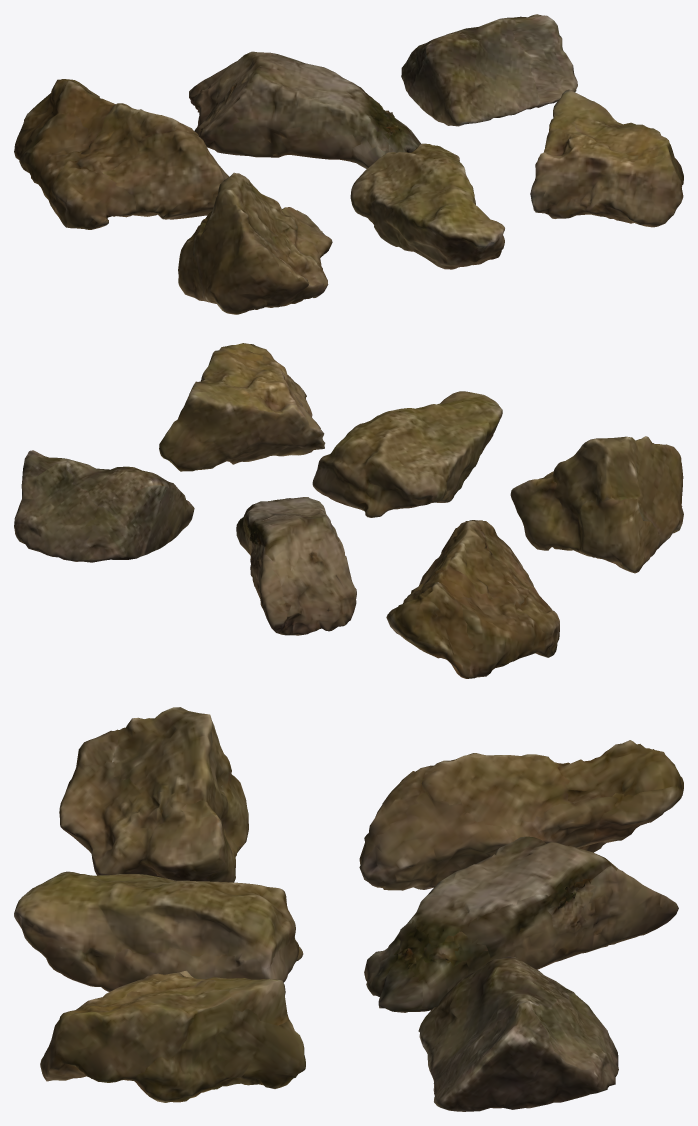
Rendered from rock-moss-set-01.glb.
The picture shows the model from 3 angles, top to bottom: view 1: azimuth 30°, elevation 25°; view 2: azimuth 150°, elevation 25°; view 3: azimuth 270°, elevation 25°; orthographic projection. The views are drawn at different scales.
Visible parts, largest first — view 1: rock_moss_set_01_rock01, rock_moss_set_01_rock02, rock_moss_set_01_rock06, rock_moss_set_01_rock04, rock_moss_set_01_rock03, rock_moss_set_01_rock05; view 2: rock_moss_set_01_rock04, rock_moss_set_01_rock01, rock_moss_set_01_rock05, rock_moss_set_01_rock03, rock_moss_set_01_rock06, rock_moss_set_01_rock02; view 3: rock_moss_set_01_rock01, rock_moss_set_01_rock02, rock_moss_set_01_rock05, rock_moss_set_01_rock06, rock_moss_set_01_rock04, rock_moss_set_01_rock03.
Boxes of the visible parts, left/top/right/bottom form: rock_moss_set_01_rock01: left=14, top=79, right=229, bottom=229; rock_moss_set_01_rock02: left=189, top=51, right=421, bottom=168; rock_moss_set_01_rock06: left=530, top=89, right=683, bottom=227; rock_moss_set_01_rock04: left=178, top=172, right=332, bottom=314; rock_moss_set_01_rock03: left=401, top=14, right=577, bottom=126; rock_moss_set_01_rock05: left=350, top=143, right=504, bottom=269; rock_moss_set_01_rock04: left=510, top=436, right=683, bottom=573; rock_moss_set_01_rock01: left=386, top=520, right=559, bottom=678; rock_moss_set_01_rock05: left=312, top=391, right=502, bottom=517; rock_moss_set_01_rock03: left=14, top=450, right=194, bottom=562; rock_moss_set_01_rock06: left=159, top=343, right=325, bottom=471; rock_moss_set_01_rock02: left=236, top=497, right=356, bottom=635; rock_moss_set_01_rock01: left=359, top=740, right=683, bottom=890; rock_moss_set_01_rock02: left=364, top=836, right=678, bottom=1012; rock_moss_set_01_rock05: left=14, top=871, right=303, bottom=991; rock_moss_set_01_rock06: left=40, top=970, right=305, bottom=1102; rock_moss_set_01_rock04: left=59, top=707, right=248, bottom=882; rock_moss_set_01_rock03: left=418, top=956, right=618, bottom=1111.
Size of the model in its own units: 8 by 1.77 by 6.94.
1 material, 1 textured.
